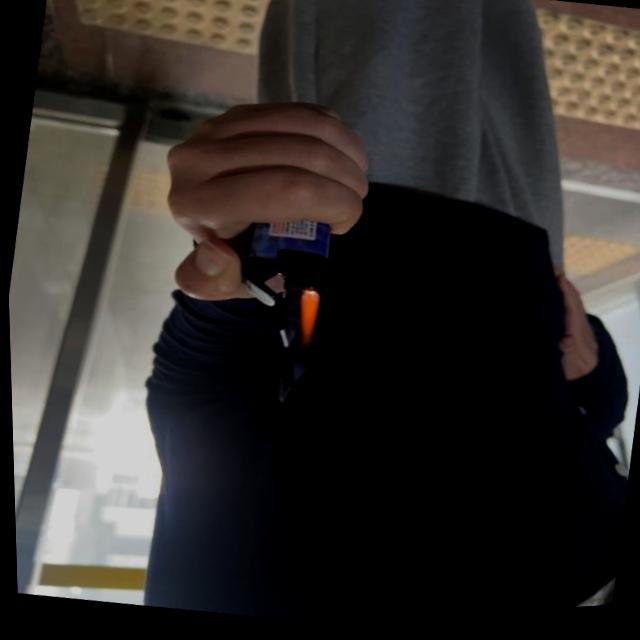Fire: (289, 290, 325, 357)
